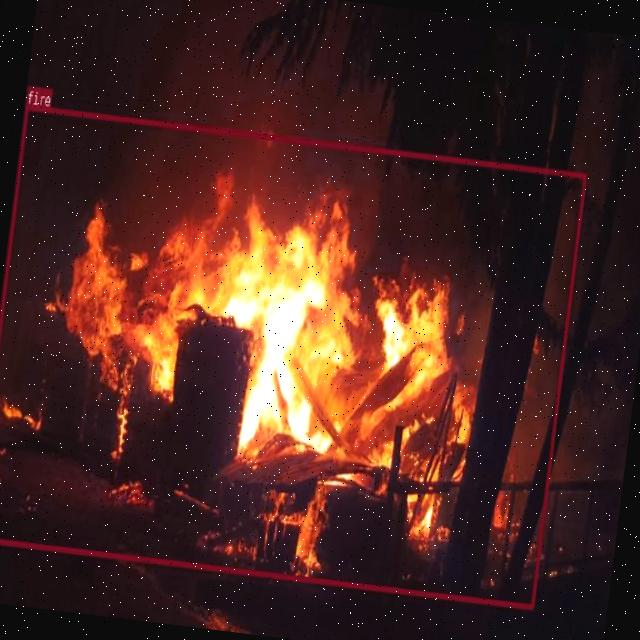fire: (0, 103, 586, 608)
